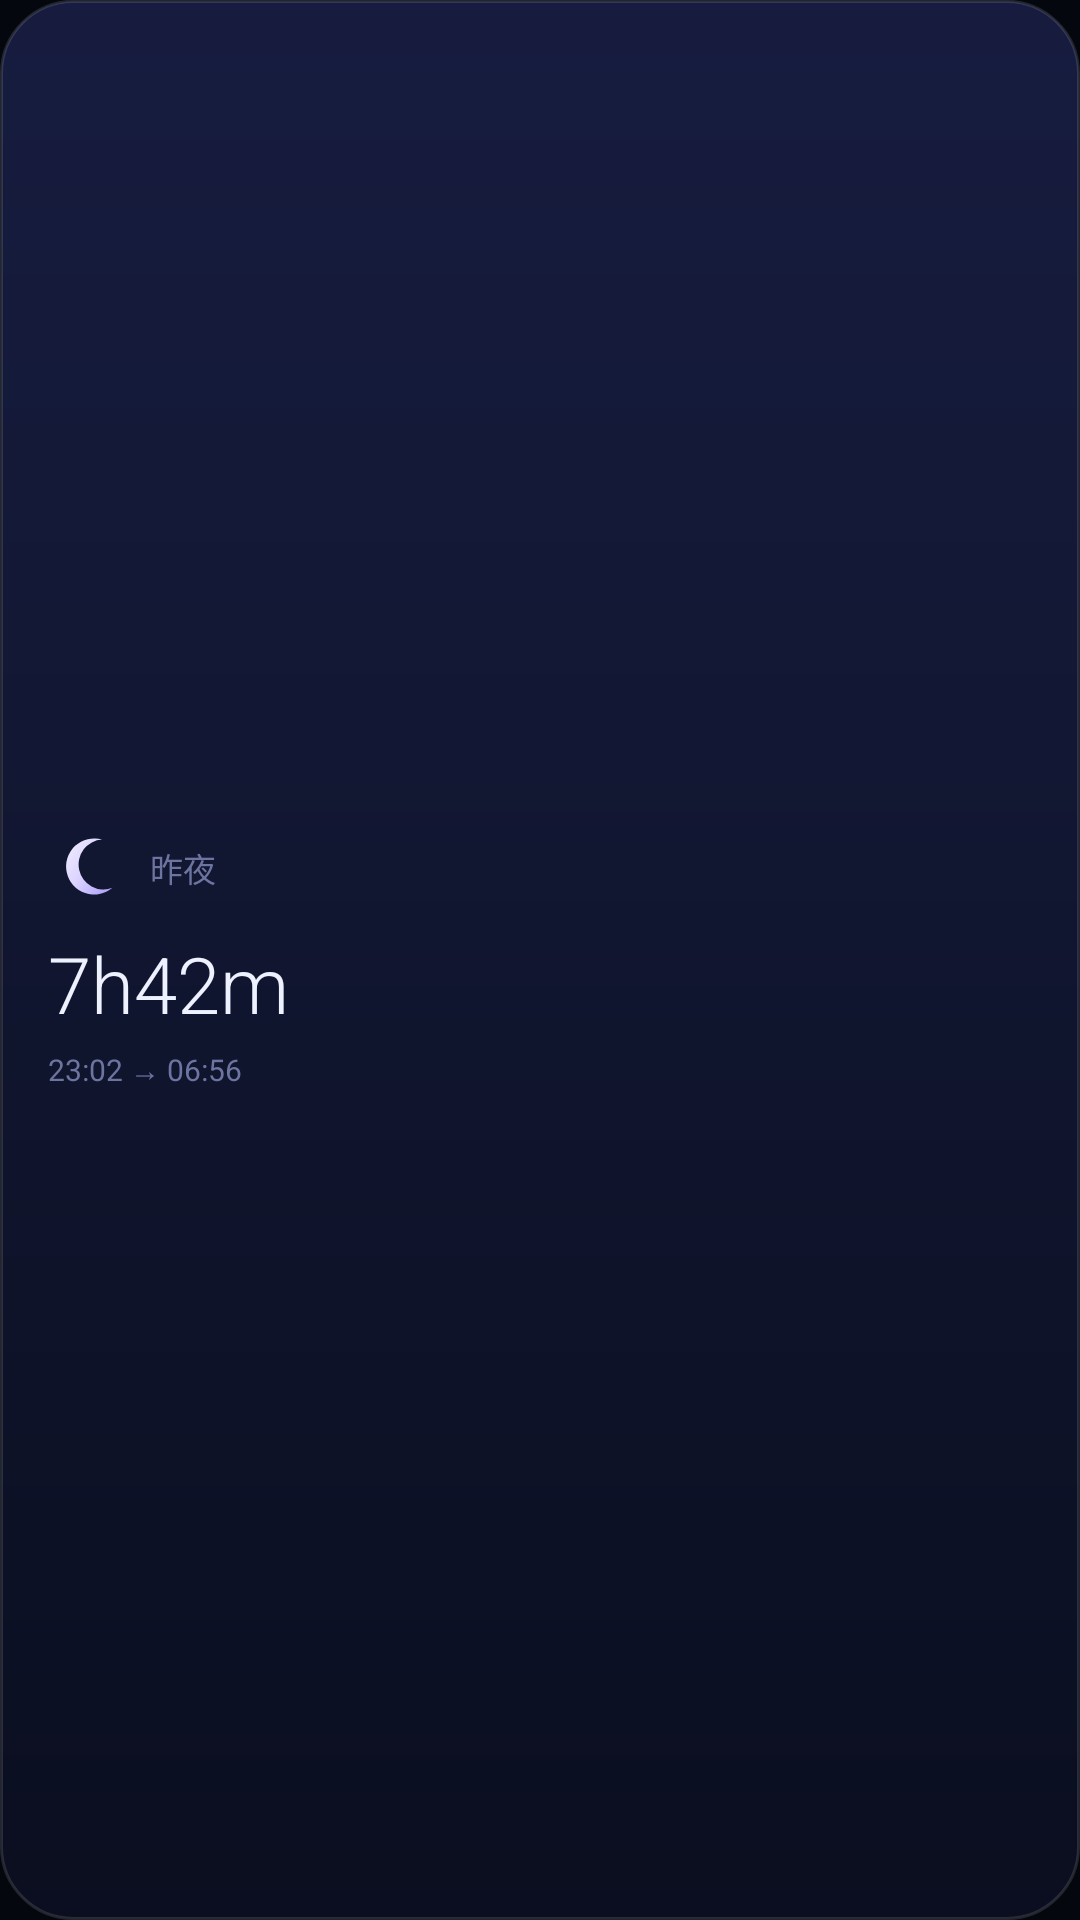

Point at icon controls on the screen. Image size 1080*1920, points as [x,y].
crescent brand: [89,866]
